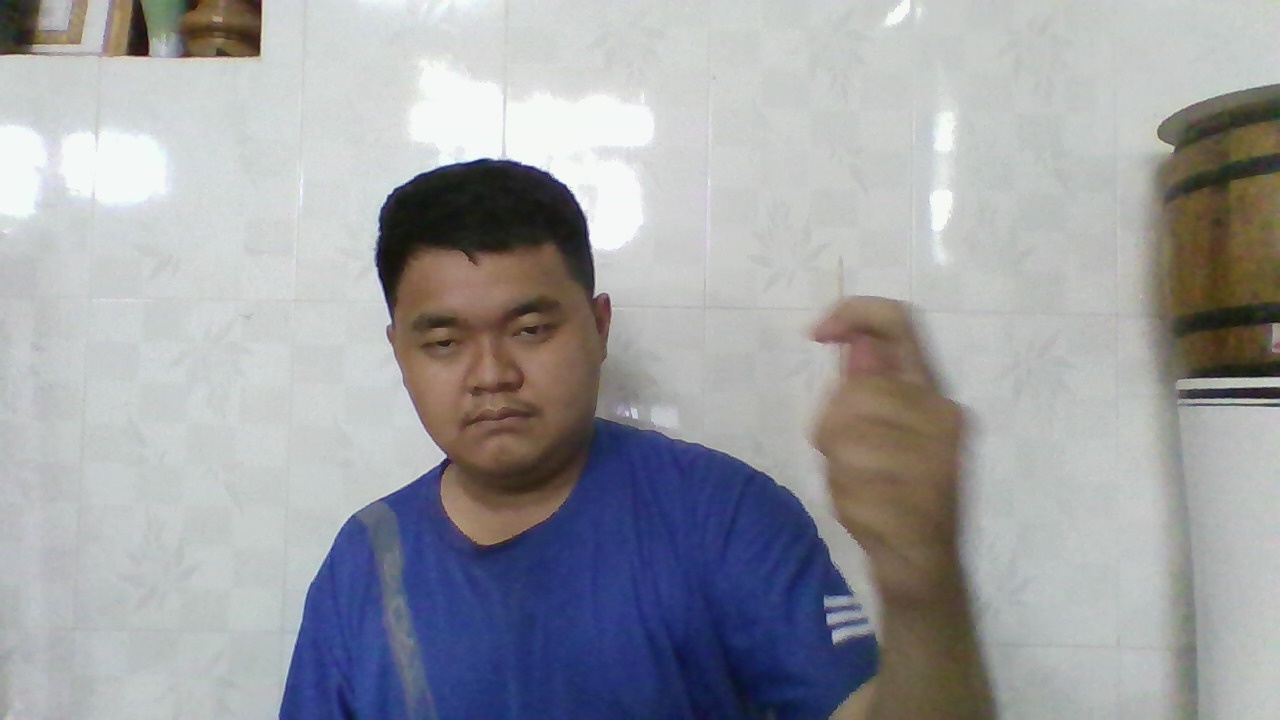X: (803, 302, 960, 589)
